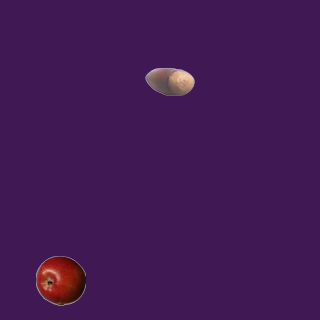Apple Braeburn: (35, 255, 85, 305)
Hazelnut: (144, 56, 194, 106)
